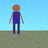person: (9, 4, 23, 34)
